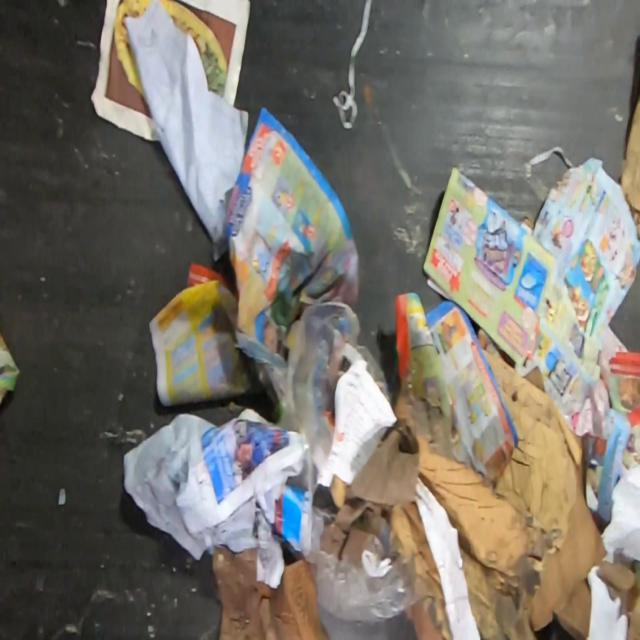cardboard: (393, 327, 640, 640), (317, 427, 419, 565), (210, 544, 330, 640), (386, 501, 454, 639), (618, 96, 640, 240), (330, 475, 348, 508)
soft_plastic: (305, 550, 418, 640)
